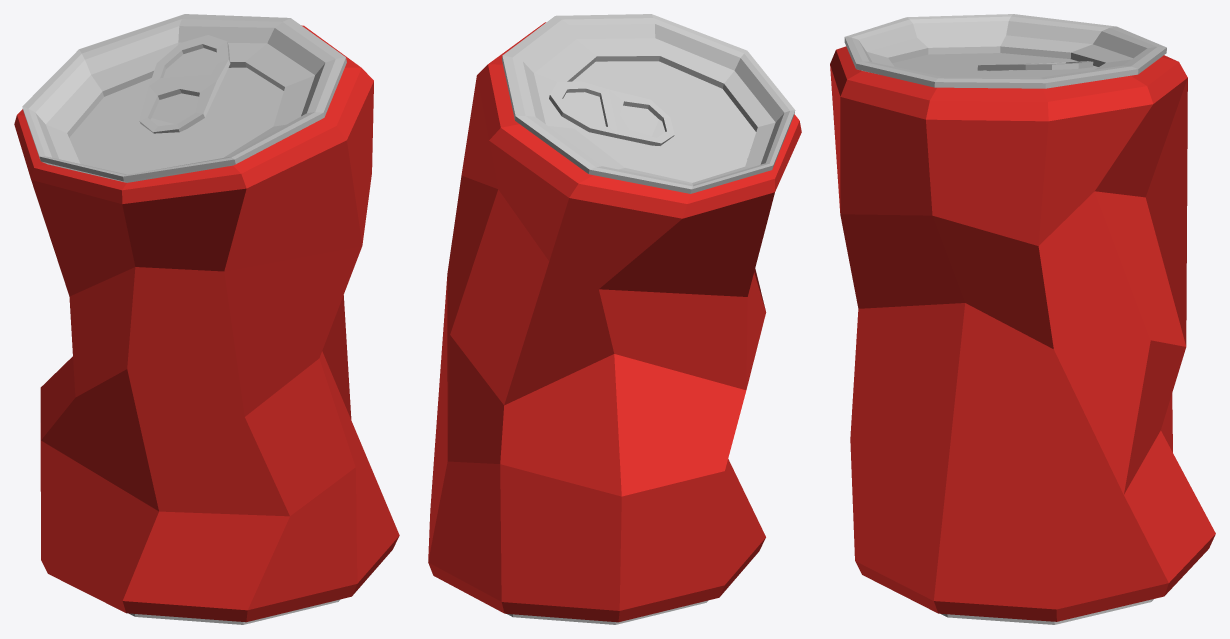
Rendered from can_crumpled.fbx.
The picture shows the model from 3 angles, left to right: view 1: azimuth 30°, elevation 25°; view 2: azimuth 150°, elevation 25°; view 3: azimuth 270°, elevation 25°; orthographic projection. The views are drawn at different scales.
Visible parts, largest first — view 1: can_crumpled_export; view 2: can_crumpled_export; view 3: can_crumpled_export.
Boxes of the visible parts, box(x1,y1,x2,y2) form: can_crumpled_export: box(14, 14, 399, 624); can_crumpled_export: box(428, 14, 801, 624); can_crumpled_export: box(830, 14, 1215, 624).
Size of the model in its own units: 20.91 by 30.08 by 20.31.
